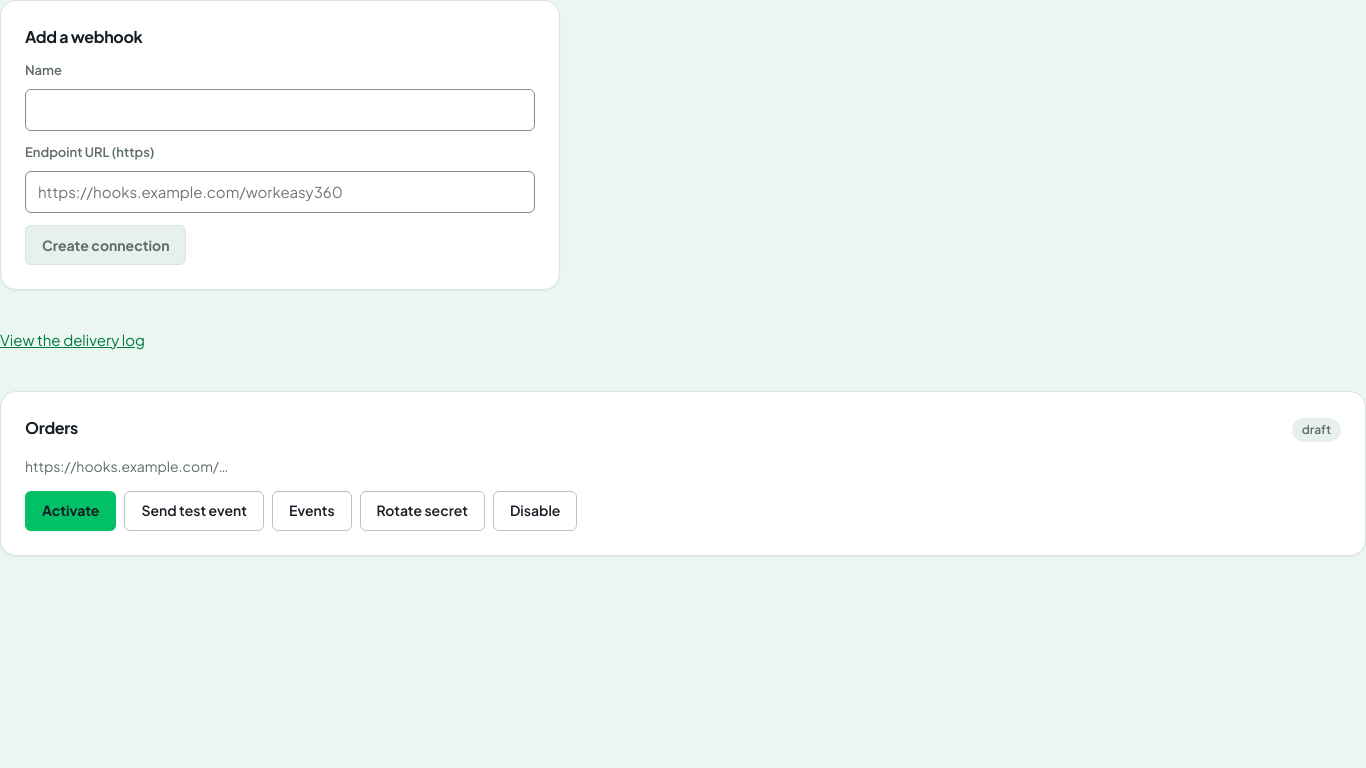
Scenario: ConnectionsSettings › sends one rotation for a double click
Click the button "Rotate secret": (422, 510) [360,490,485,530]
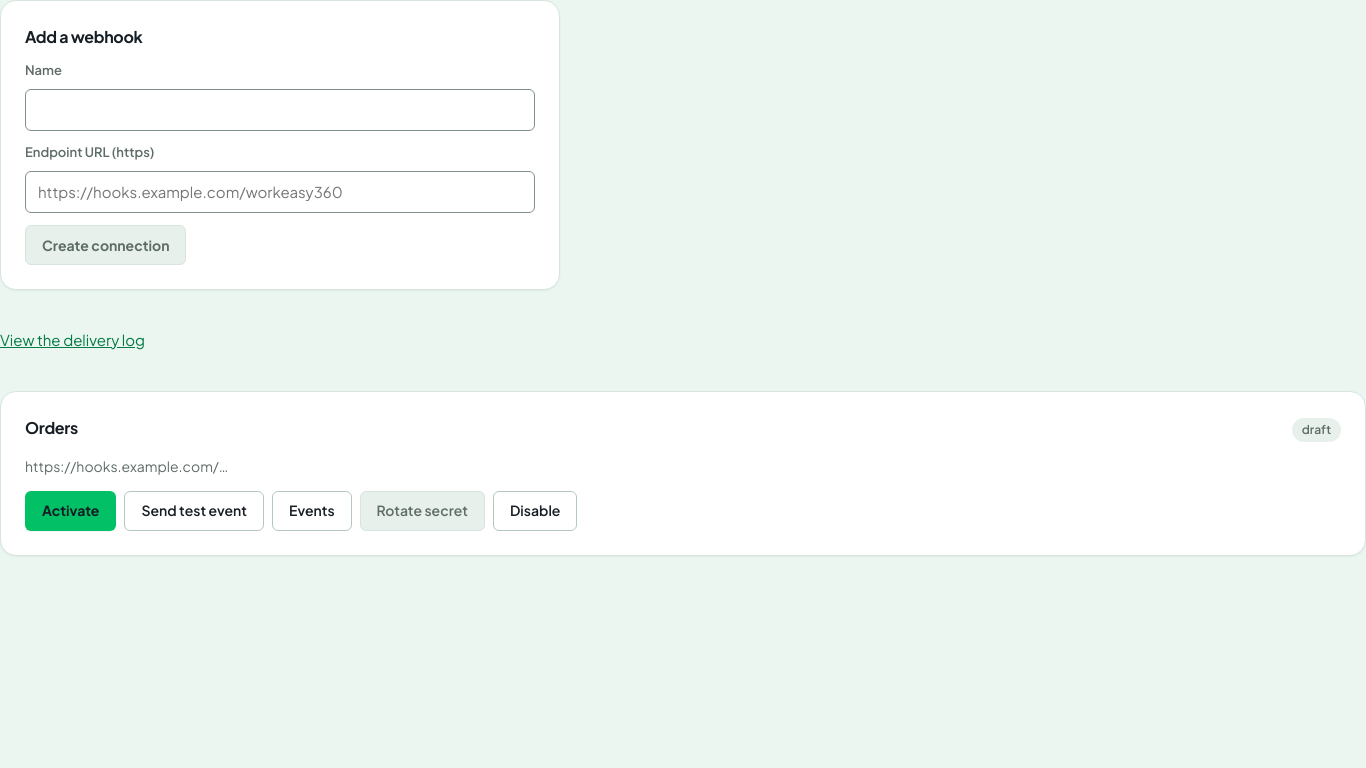
Click the button "Rotate secret": (422, 510) [360,490,485,530]
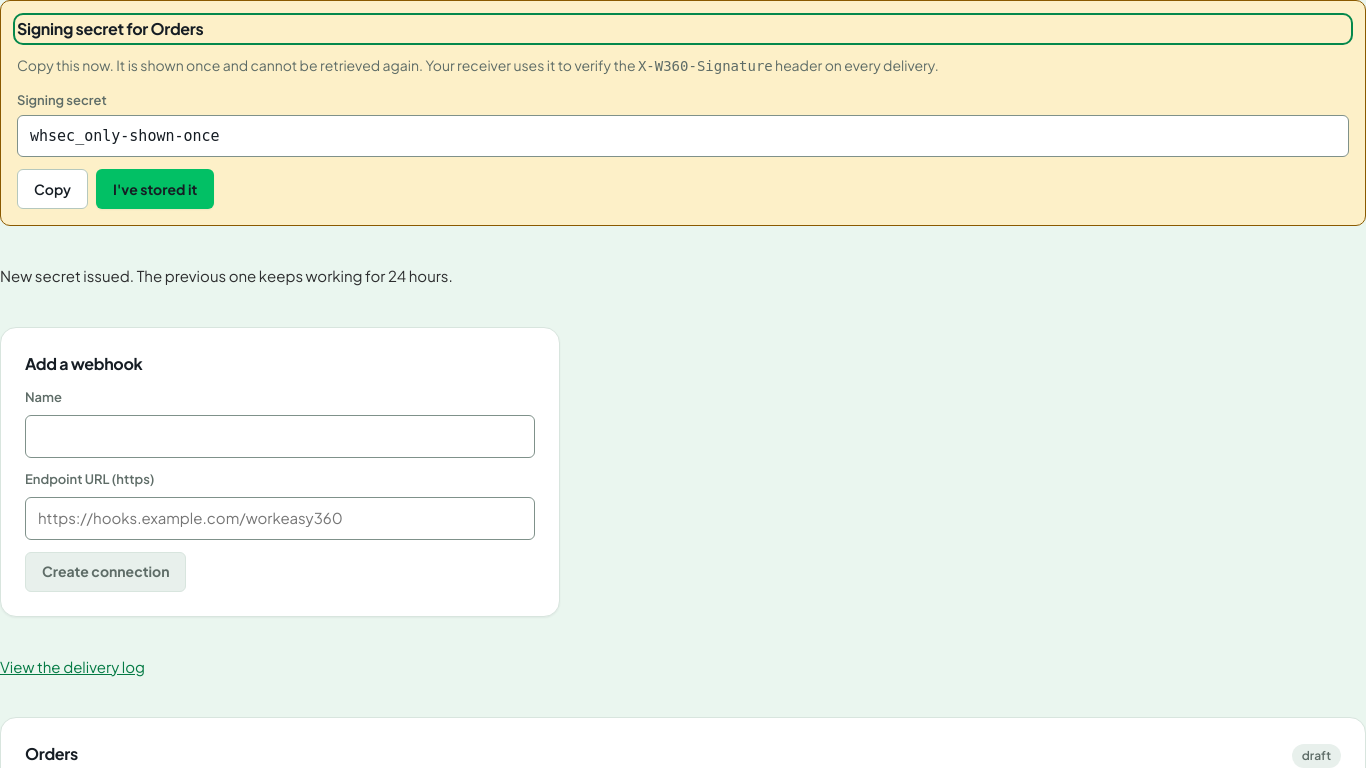
Result: the field showing "whsec_only-shown-once" is shown at [17,114,1349,157]
